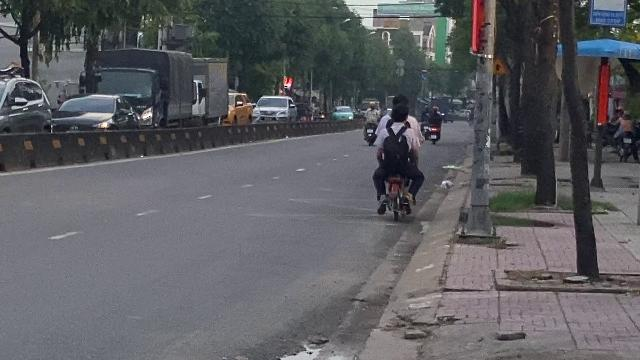motorcyclist: (370, 93, 430, 223)
nohelmet: (391, 103, 409, 124)
